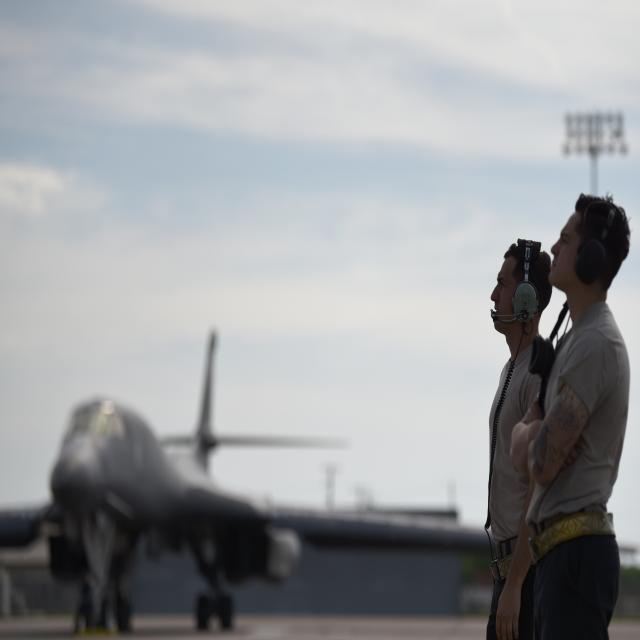MIL_Plane: (0, 326, 640, 631)
